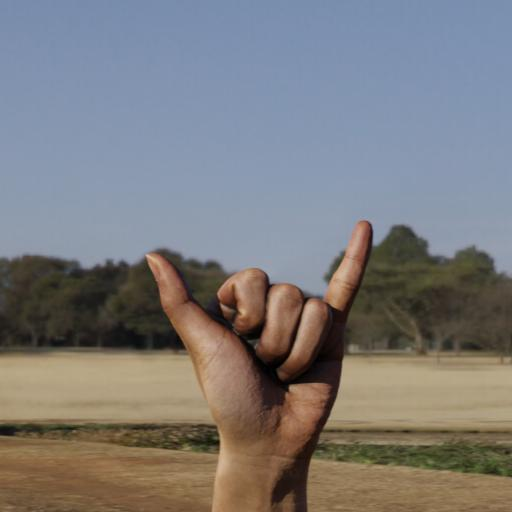Y: (142, 216, 378, 449)
